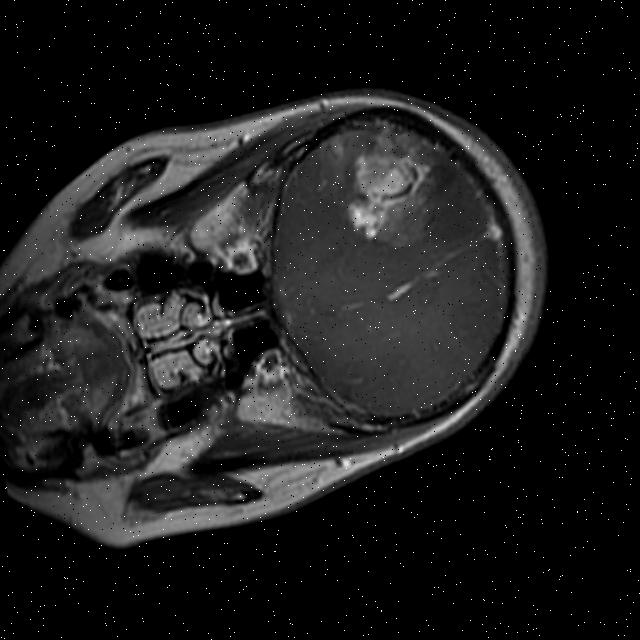Glioma: (331, 138, 446, 247)
